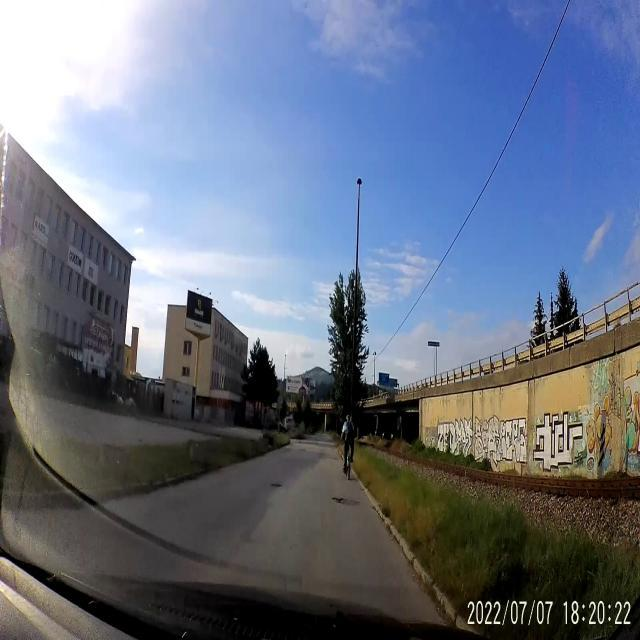Pothole: (328, 492, 362, 516), (269, 476, 285, 494)
